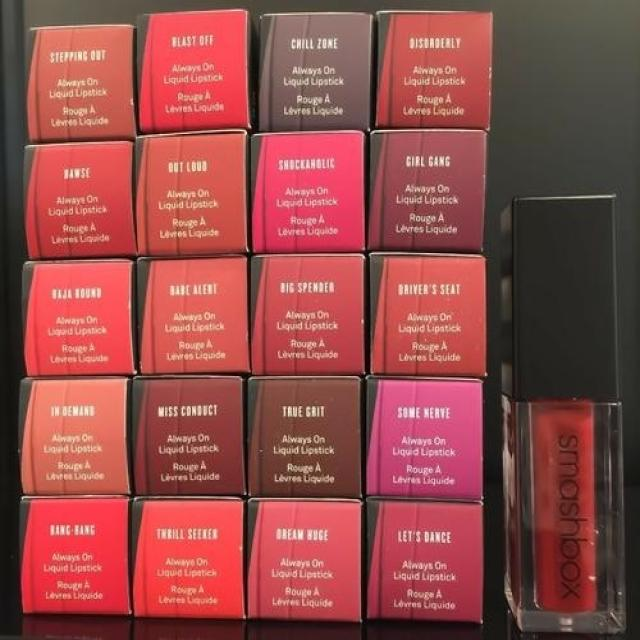box: (135, 11, 258, 137), (365, 498, 485, 623), (367, 250, 485, 377), (249, 251, 368, 376), (246, 496, 365, 621), (367, 129, 487, 252), (248, 374, 365, 499), (369, 11, 492, 129), (131, 374, 248, 498), (250, 130, 367, 252), (130, 496, 247, 617), (367, 376, 482, 499), (18, 496, 133, 619), (25, 136, 137, 262), (257, 12, 375, 131), (137, 254, 254, 373), (135, 131, 248, 254), (19, 376, 134, 494), (27, 22, 139, 143), (24, 258, 137, 377)
